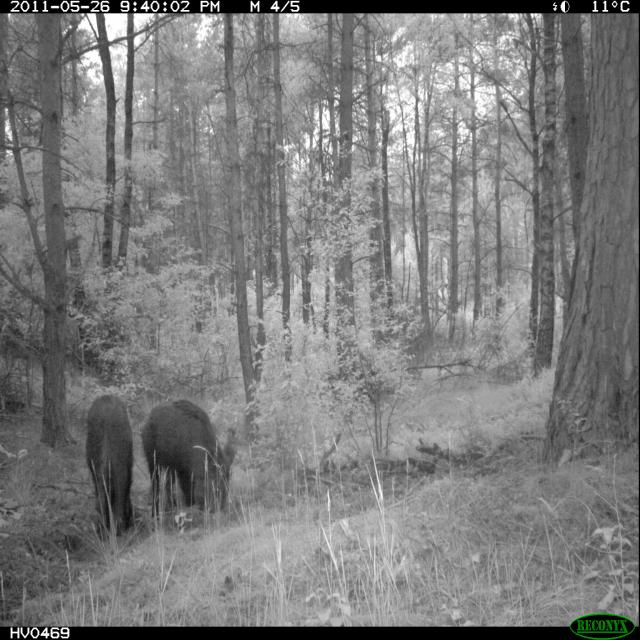boar: (126, 384, 246, 532), (82, 389, 150, 545)
